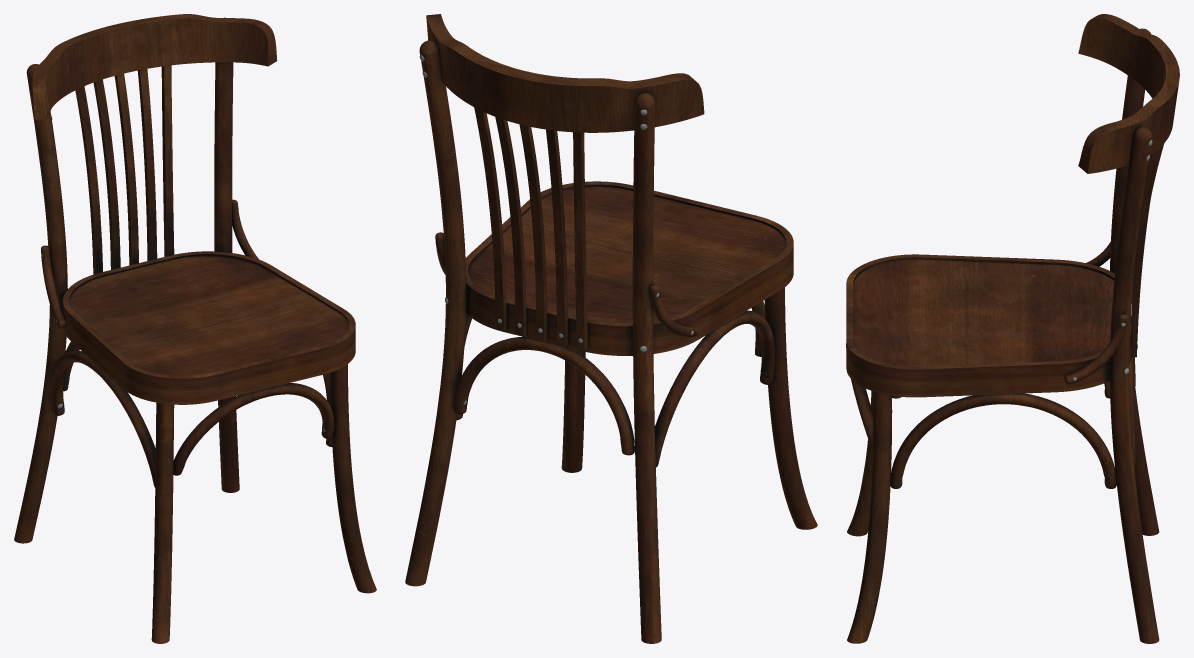
3 views of the same model, side by side, from view 1: azimuth 30°, elevation 25°; view 2: azimuth 150°, elevation 25°; view 3: azimuth 270°, elevation 25° (orthographic). The views are drawn at different scales.
Parts seen in each view (by area): view 1: Chair.001; view 2: Chair.001; view 3: Chair.001.
Part boxes in pixels (left/top/right/bottom): Chair.001: left=14, top=14, right=376, bottom=643; Chair.001: left=405, top=14, right=817, bottom=643; Chair.001: left=846, top=14, right=1179, bottom=643.
Bounding box in the file's own units: 0.5338 × 1.01 × 0.5962.
Materials: 1 (1 with a texture image).
